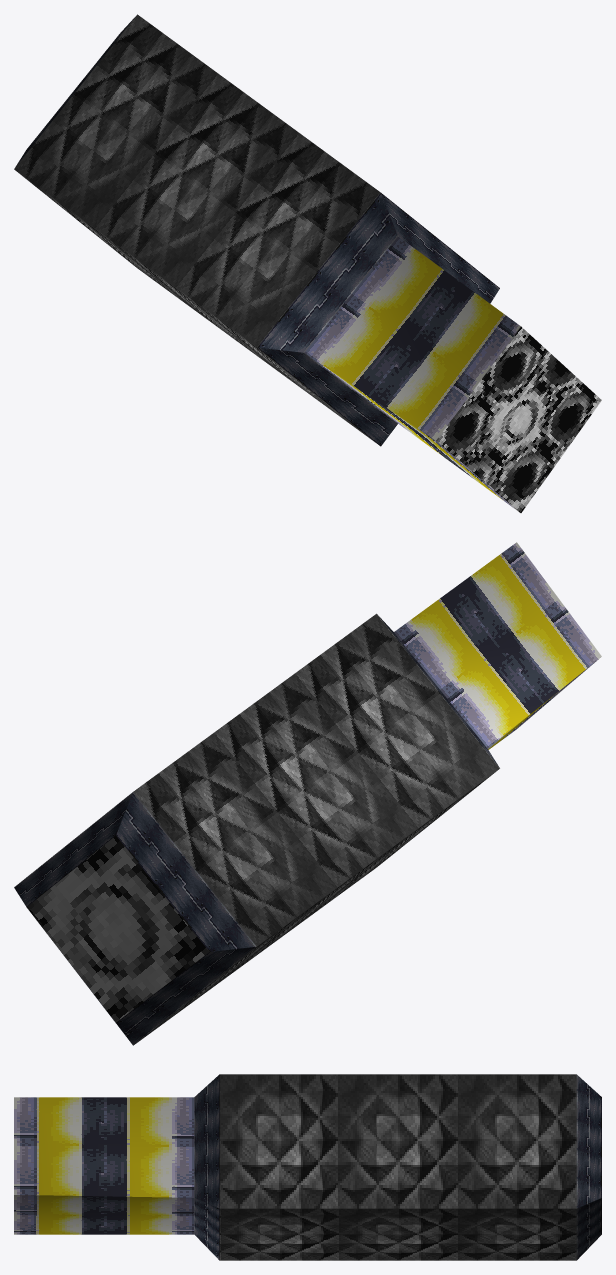
Rendered from 1d-n-bomb-tp.glb.
3 renders of one model, top to bottom at view 1: azimuth 30°, elevation 25°; view 2: azimuth 150°, elevation 25°; view 3: azimuth 270°, elevation 25°, orthographic. The views are drawn at different scales.
Parts seen in each view (by area): view 1: gun; view 2: gun; view 3: gun.
Part boxes in pixels (box(x1,y1,x2,y2)): gun: box(14, 14, 601, 512); gun: box(14, 542, 601, 1045); gun: box(14, 1074, 601, 1260).
Size of the model in its own units: 68.51 by 68.51 by 196.
Materials: 4 (4 with a texture image).
